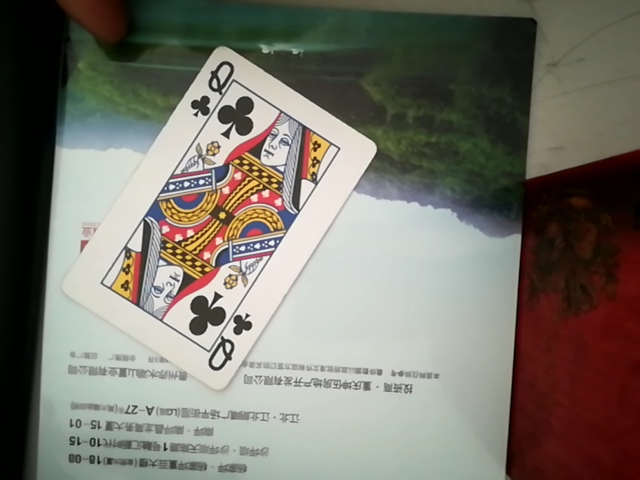mh q: (49, 43, 384, 381)
